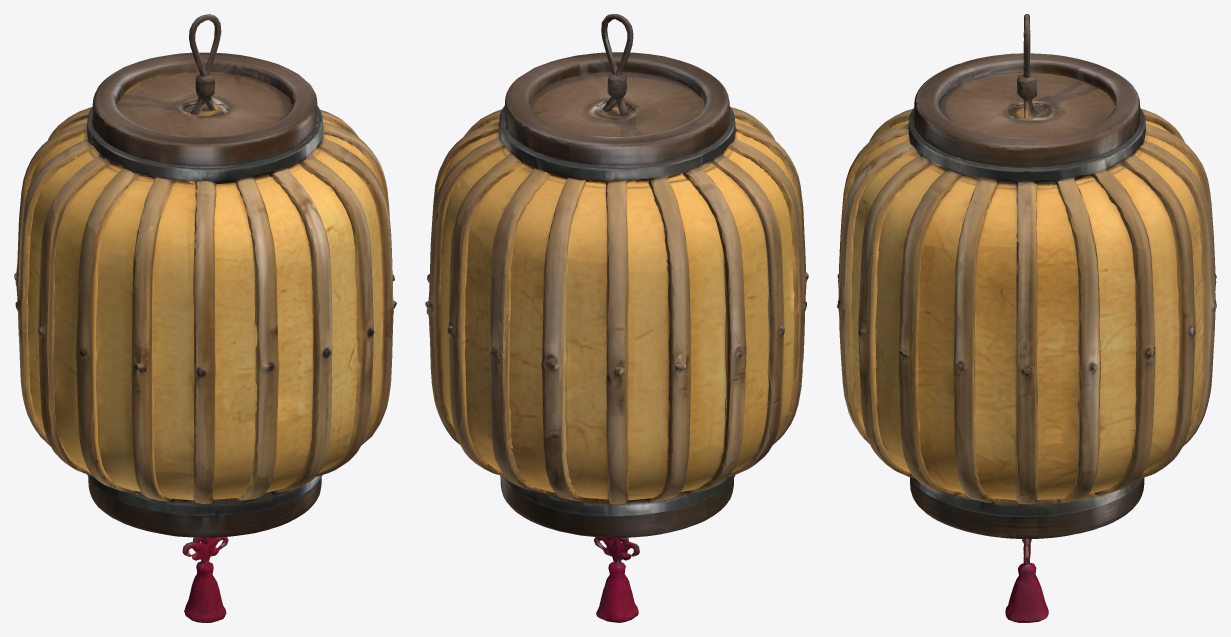
The model's file is lantern_textured.glb.
3 renders of one model, left to right at view 1: azimuth 30°, elevation 25°; view 2: azimuth 150°, elevation 25°; view 3: azimuth 270°, elevation 25°, orthographic.
Visible parts, largest first — view 1: geometry_0; view 2: geometry_0; view 3: geometry_0.
Boxes of the visible parts, x1,y1,x2,y2 form: geometry_0: (14,14,396,622); geometry_0: (425,14,808,622); geometry_0: (837,14,1216,622).
Size of the model in its own units: 0.2627 by 0.45 by 0.2584.
Materials: 1 (1 with a texture image).
